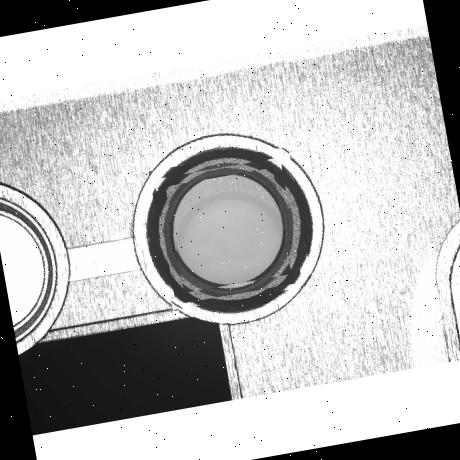Hole: (133, 134, 327, 327)
Hole2: (148, 146, 313, 310)
Hole3: (154, 156, 302, 305)
Hole4: (166, 167, 292, 293)
